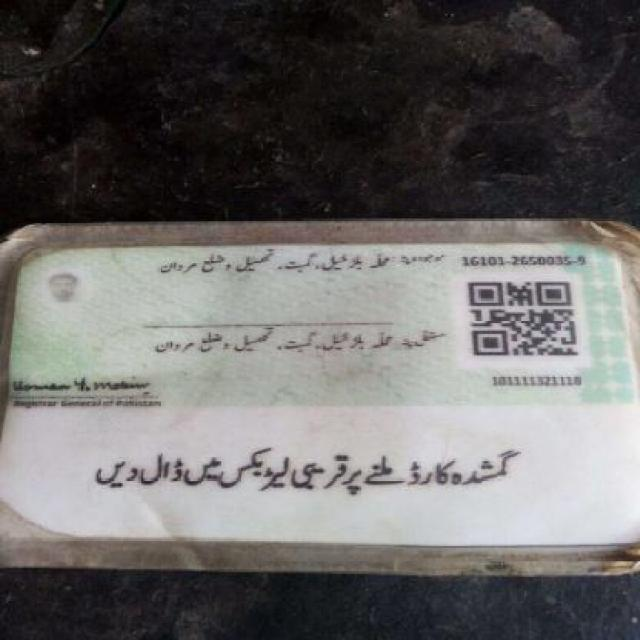Back: (9, 234, 628, 571)
